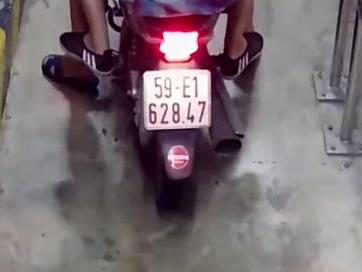num_plate: (143, 69, 212, 129)
